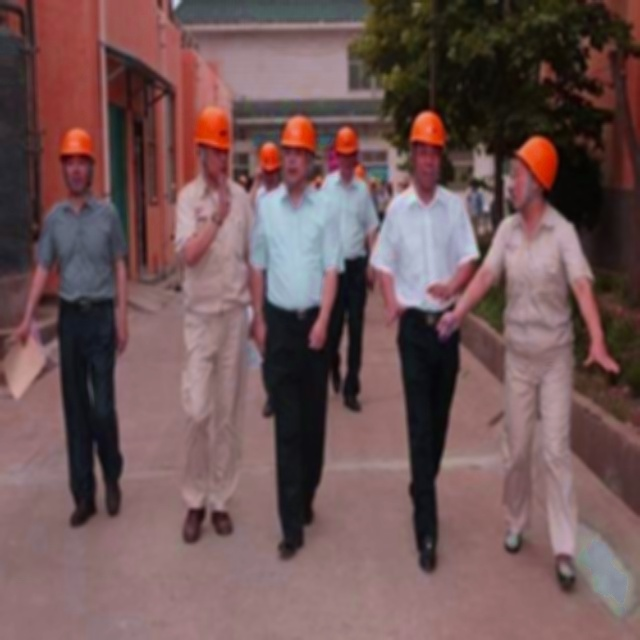Con_Casco: (409, 113, 448, 182), (280, 113, 317, 183)
Sin_Chaleco: (247, 188, 337, 325), (381, 188, 472, 314)
